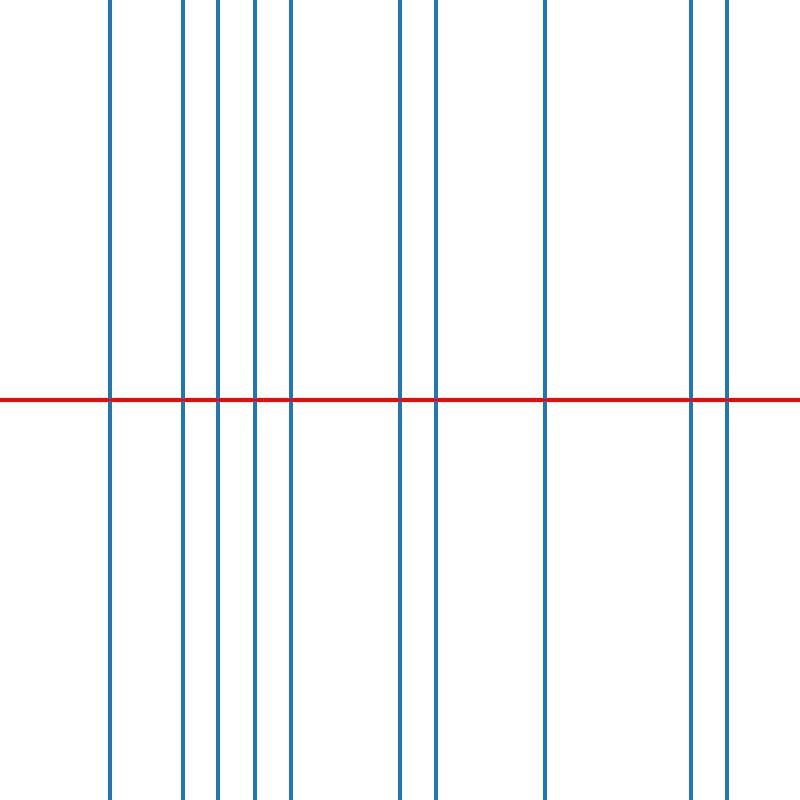root: (250, 396, 258, 404), (541, 396, 549, 404), (432, 396, 440, 404), (105, 396, 112, 404), (287, 396, 294, 404), (687, 396, 694, 404), (723, 396, 730, 404), (178, 396, 185, 404), (396, 396, 403, 404), (214, 396, 221, 404)
